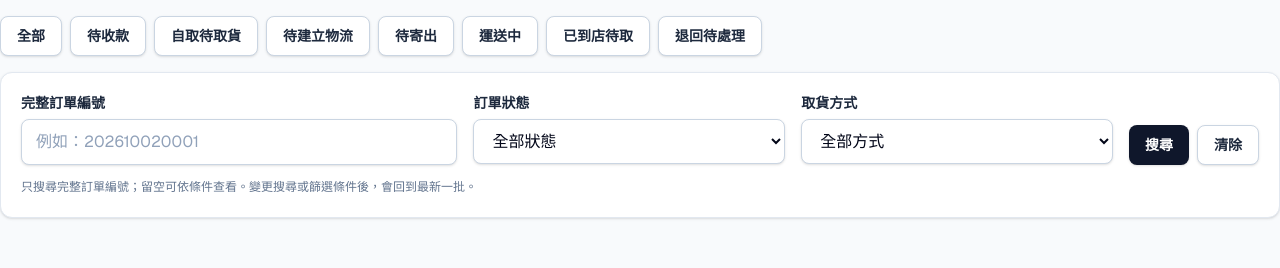
Test case: malformed search is never sent to a URL: 0912345678
Type "0912345678" into the field labelled "完整訂單編號" at (239, 142), box [21,119,458,165]
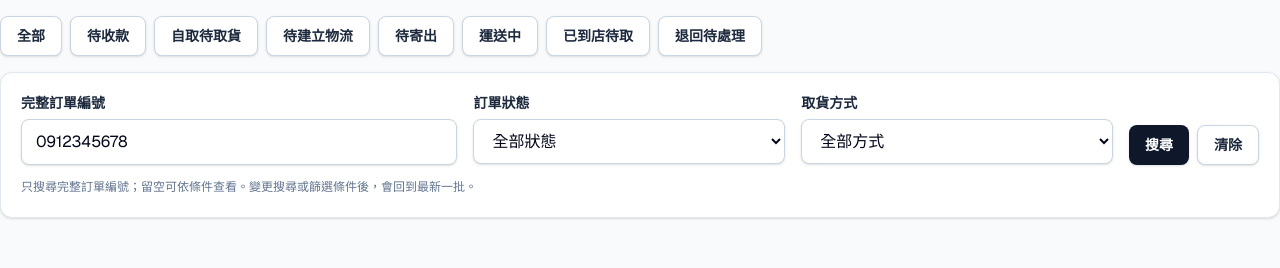
Submit the form named "搜尋及篩選訂單", box [0,72,1279,218]
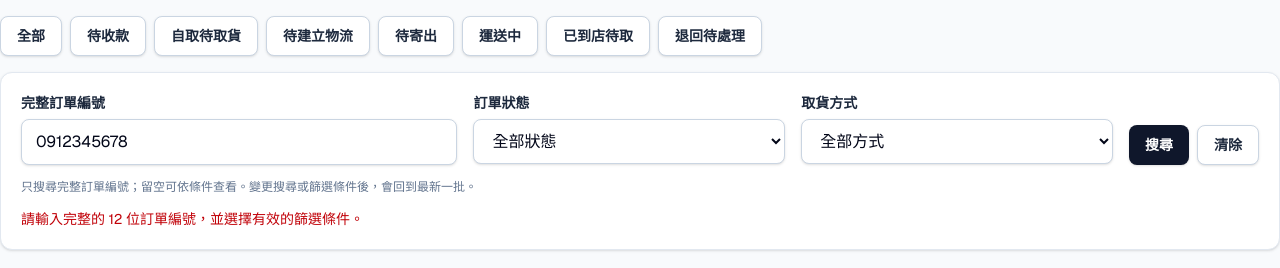
Result: the message shows "請輸入完整的 12 位訂單編號" at [21,210,364,228]
